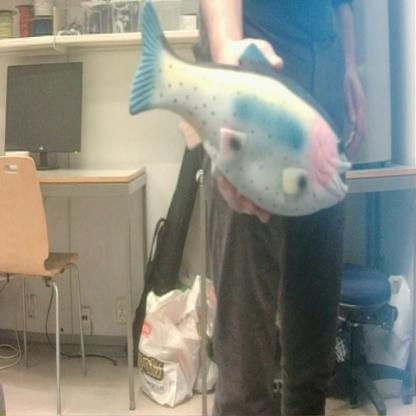rubberfish: (122, 0, 354, 222)
